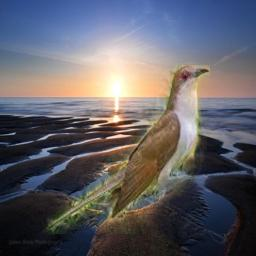Cuckoo: (40, 65, 210, 234)
